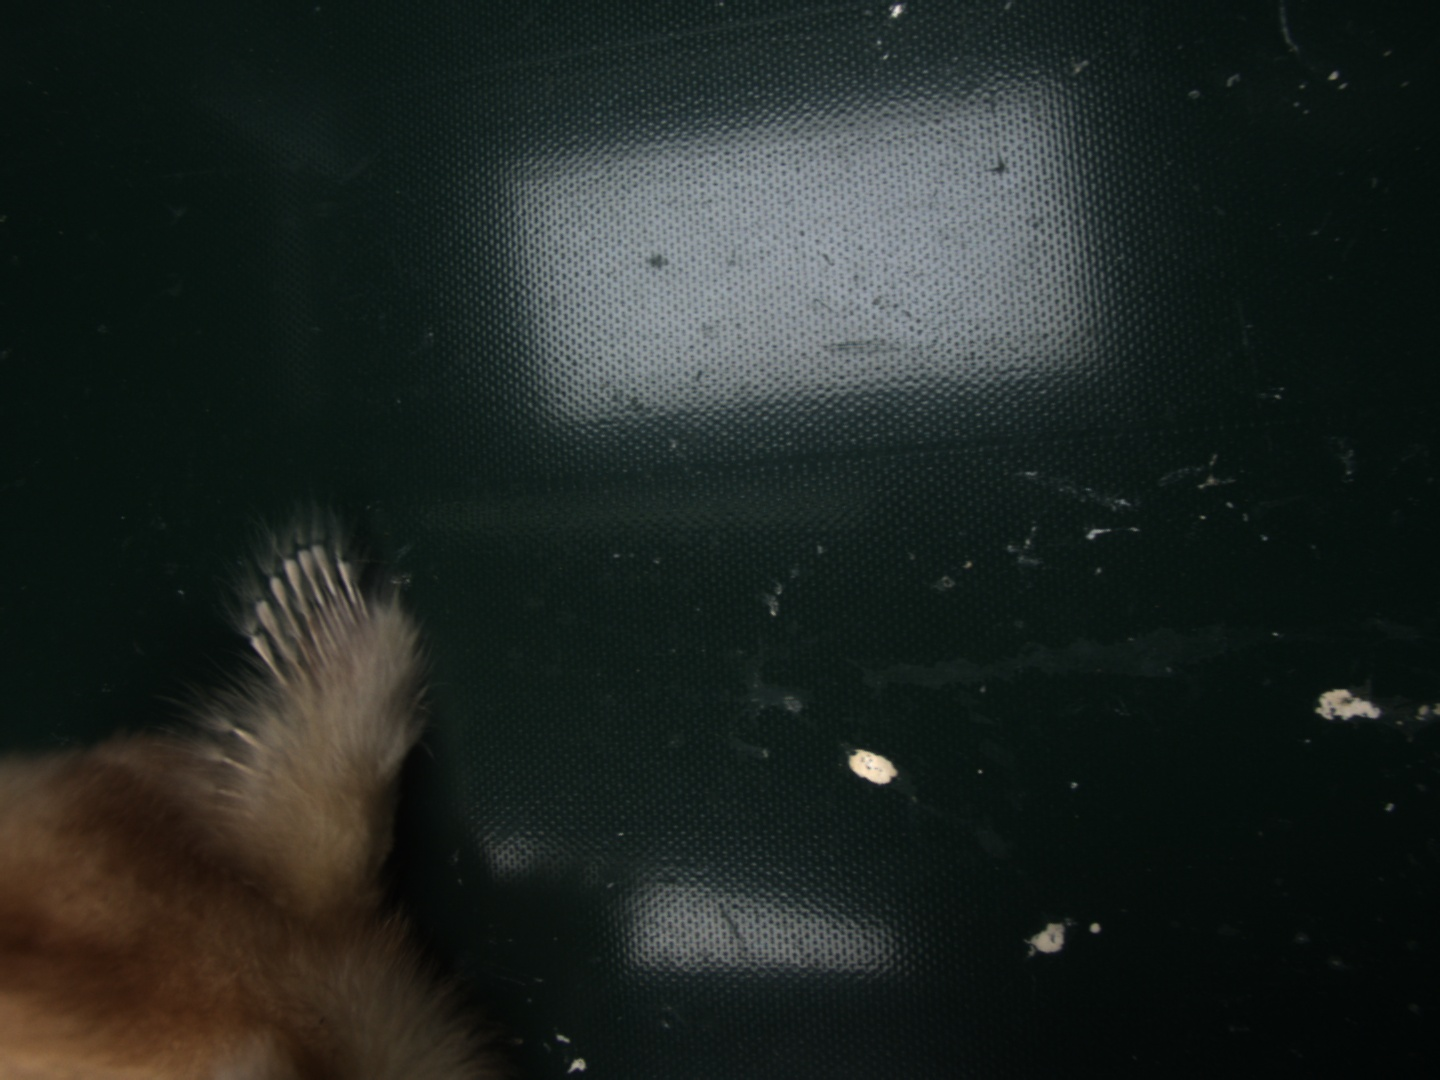female: (243, 540, 370, 684)
